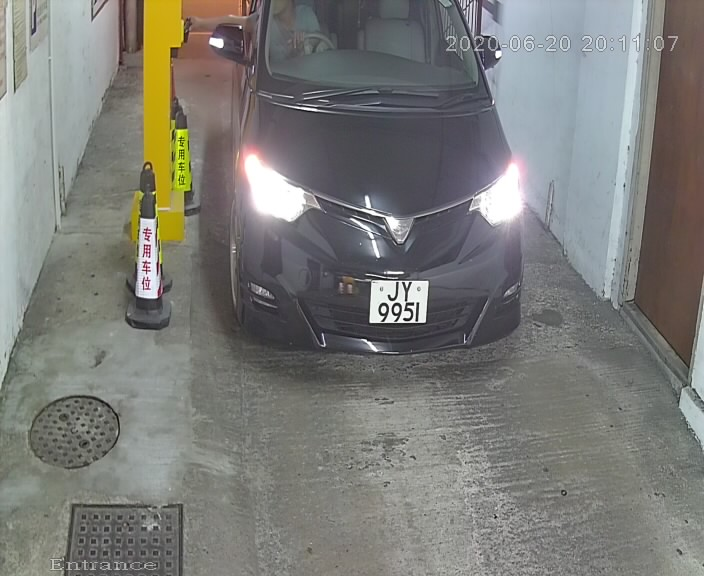privatecar: (206, 1, 534, 401)
